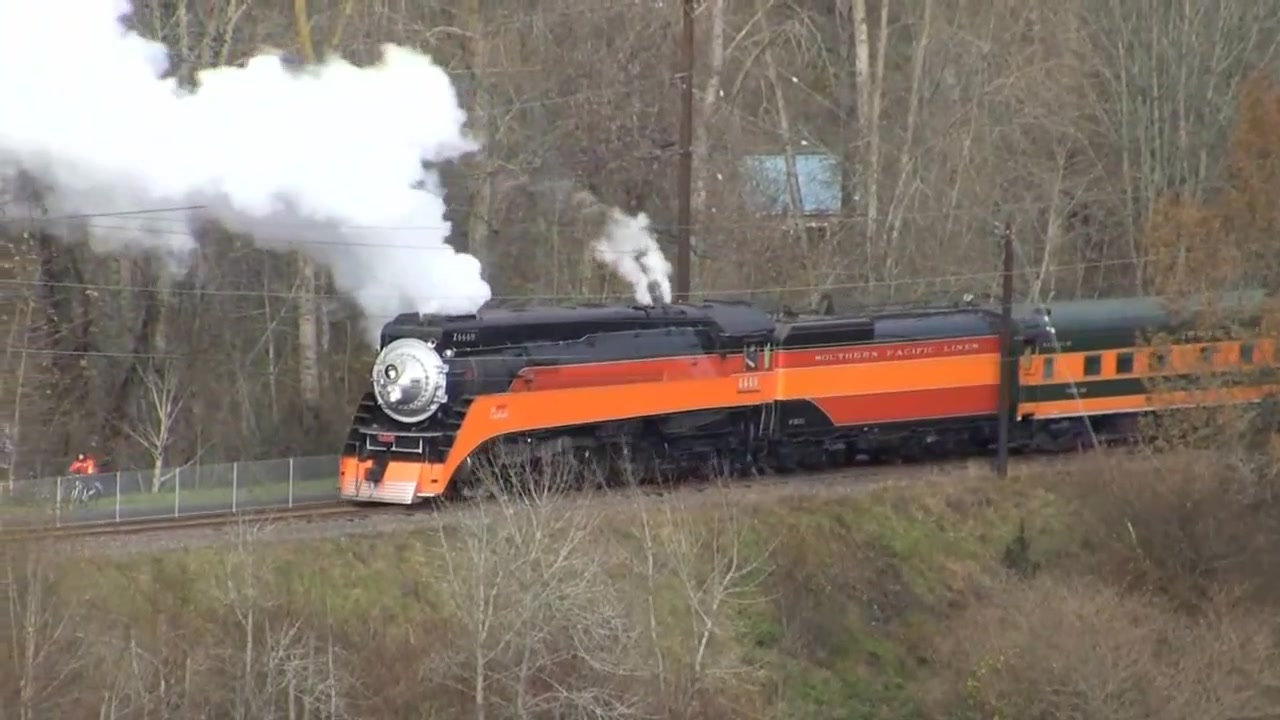train: (336, 290, 1280, 514)
